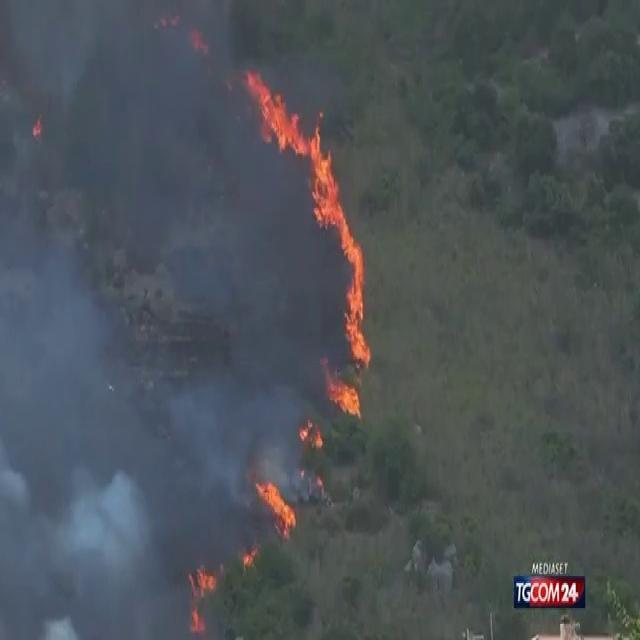Fire: (307, 117, 371, 420), (247, 64, 341, 204), (250, 468, 298, 544), (184, 553, 223, 633)
Smoke: (0, 1, 324, 614)
